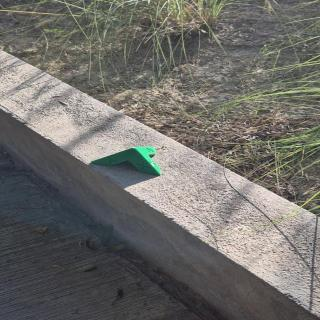eje: (89, 146, 163, 177)
